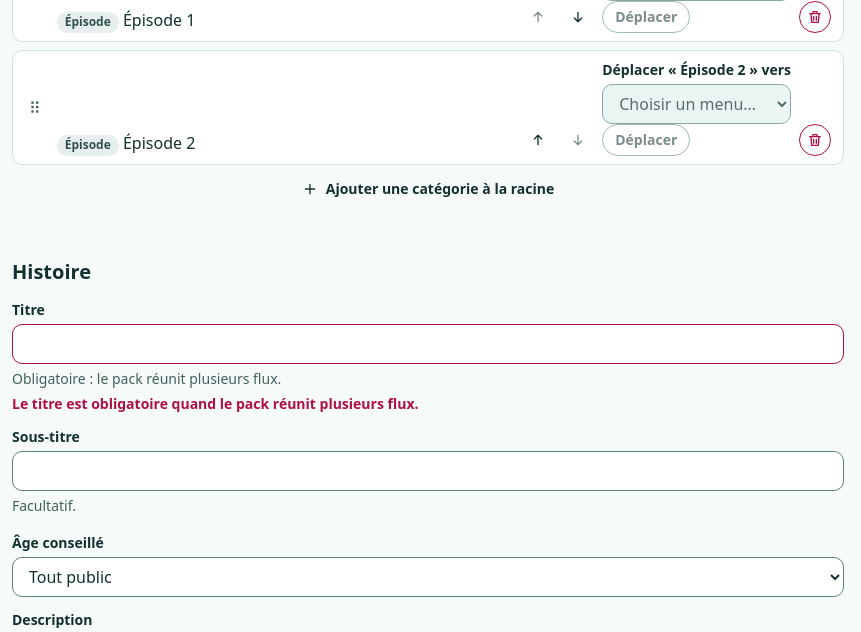
Scenario: titre obligatoire quand le pack réunit plusieurs flux
(page scrolled)
Expected: the text "Obligatoire : le pack réunit plusieurs flux." is shown, x1=12 y1=369 x2=281 y2=388
Expected: the text "Le titre est obligatoire quand le pack réunit plusieurs flux." is shown, x1=12 y1=394 x2=418 y2=413
Type "Mon pack" into the field labelled "Titre" at (428, 344), box x1=12 y1=324 x2=844 y2=364
(page scrolled)
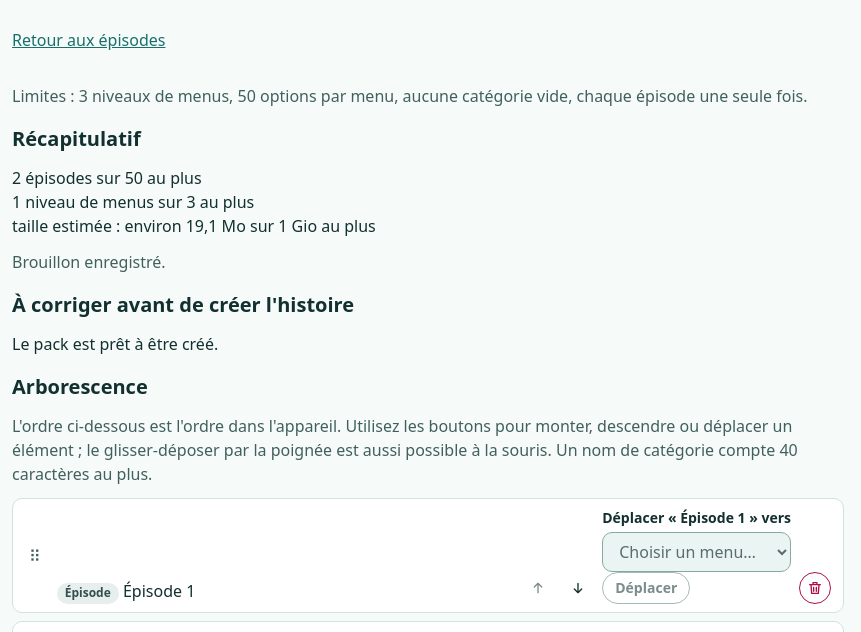
Now the text "Le titre est obligatoire quand le pack réunit plusieurs flux." is gone
Now the text "Le pack est prêt à être créé." is shown, box x1=12 y1=333 x2=218 y2=355
